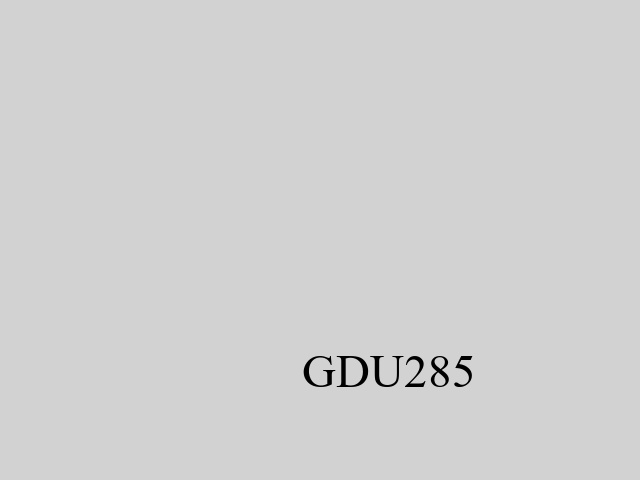OCR_AREA: (298, 352, 480, 391)
